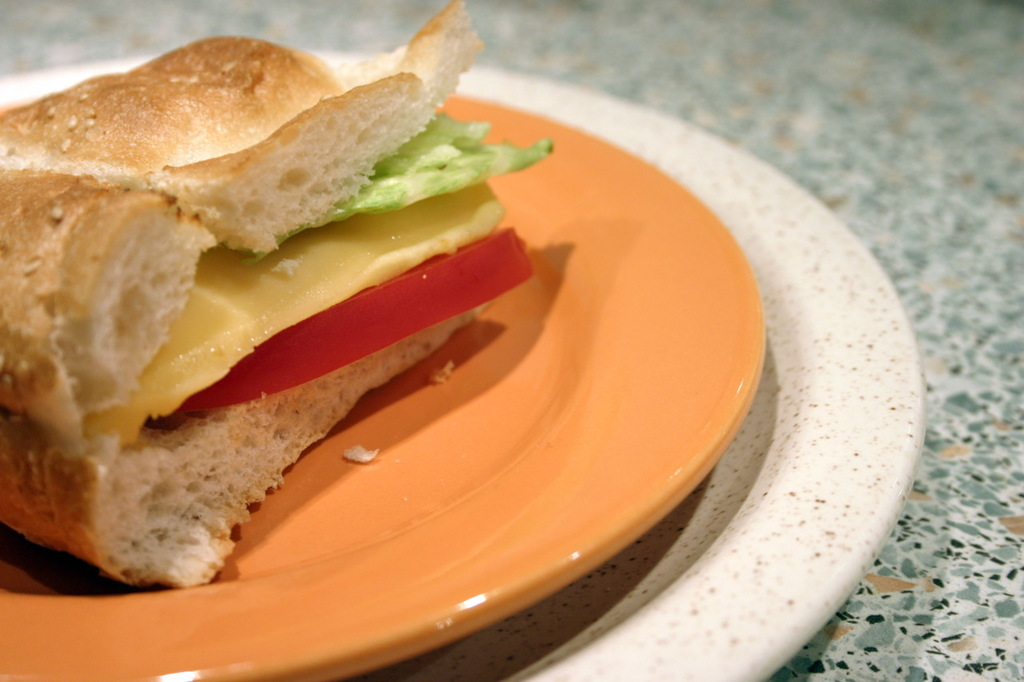plate: (2, 53, 925, 680)
